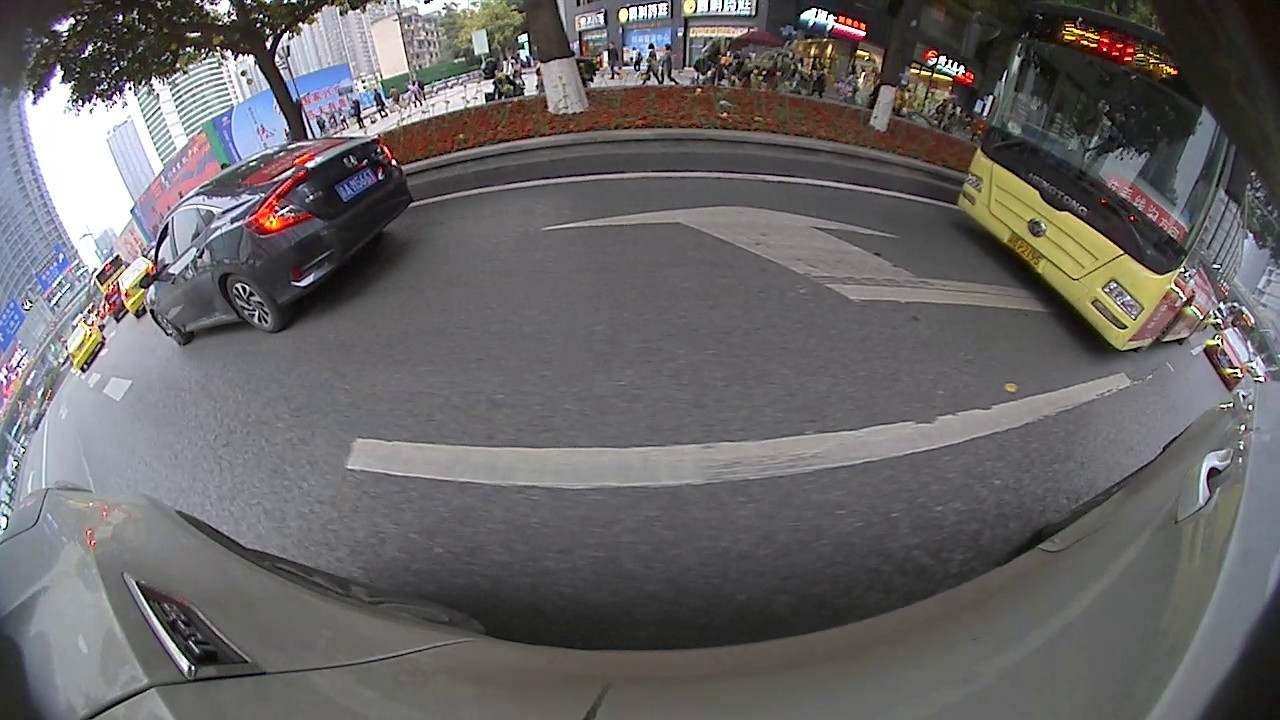bus: (953, 1, 1252, 358)
car: (140, 133, 416, 351), (1204, 322, 1256, 389), (111, 253, 154, 322), (61, 319, 107, 373)
front: (153, 312, 193, 348)
rear: (218, 274, 291, 337)
